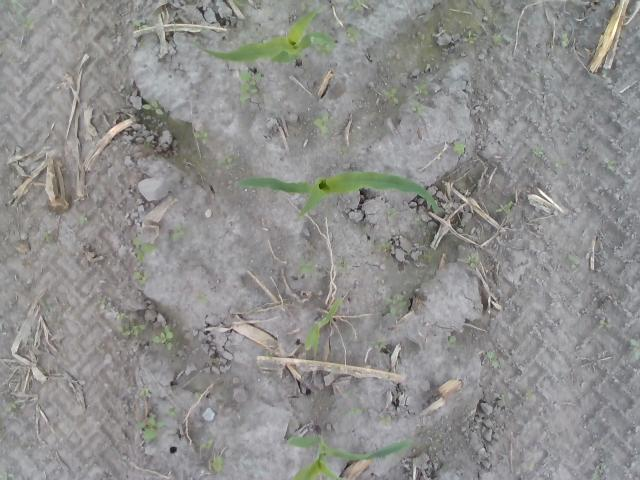Maize: (240, 170, 438, 216), (200, 9, 332, 61), (288, 434, 410, 480), (304, 298, 341, 350)
Weeds: (239, 69, 267, 108), (136, 414, 169, 445), (407, 82, 430, 120), (117, 312, 146, 337), (150, 325, 177, 350), (132, 238, 159, 262), (384, 293, 408, 317), (313, 110, 332, 136), (0, 0, 27, 17), (142, 100, 166, 118), (382, 86, 400, 104), (486, 350, 504, 368), (298, 254, 315, 273), (212, 453, 227, 474), (0, 400, 17, 417), (132, 270, 150, 286), (170, 222, 185, 241), (629, 336, 640, 361), (192, 128, 208, 144), (96, 296, 112, 312), (463, 30, 480, 45), (347, 0, 368, 12), (466, 252, 481, 268), (495, 201, 513, 214), (566, 254, 578, 273), (22, 16, 38, 30), (335, 258, 351, 272), (196, 438, 214, 450), (128, 18, 145, 30), (370, 338, 386, 350), (306, 0, 322, 12), (375, 241, 392, 252), (447, 335, 458, 352), (453, 142, 466, 156), (194, 292, 209, 304), (346, 26, 357, 42), (560, 31, 570, 48), (531, 145, 544, 158), (0, 470, 16, 480), (434, 432, 444, 448), (316, 46, 332, 56), (606, 158, 618, 171), (386, 207, 396, 222), (139, 388, 151, 400), (379, 414, 391, 425), (554, 159, 568, 168), (293, 209, 304, 220), (337, 147, 348, 158), (167, 407, 178, 418), (223, 156, 233, 168), (350, 407, 362, 417), (590, 470, 602, 480), (234, 0, 249, 7), (526, 390, 536, 400), (40, 231, 50, 241), (79, 215, 88, 225), (598, 319, 608, 328), (495, 35, 504, 44), (95, 342, 103, 352), (194, 391, 204, 399), (498, 393, 504, 400)
